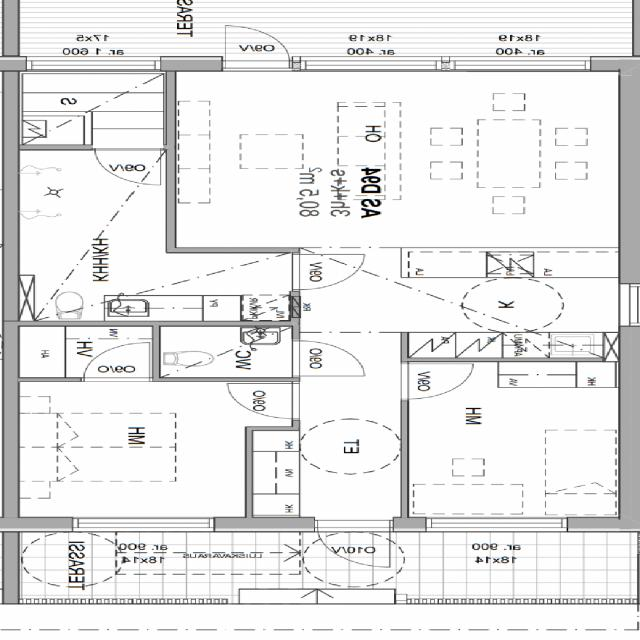door: (318, 520, 391, 570), (225, 26, 290, 72), (96, 144, 161, 186), (292, 254, 365, 290), (85, 342, 150, 382), (228, 383, 300, 419), (400, 364, 474, 399), (292, 341, 365, 375)
